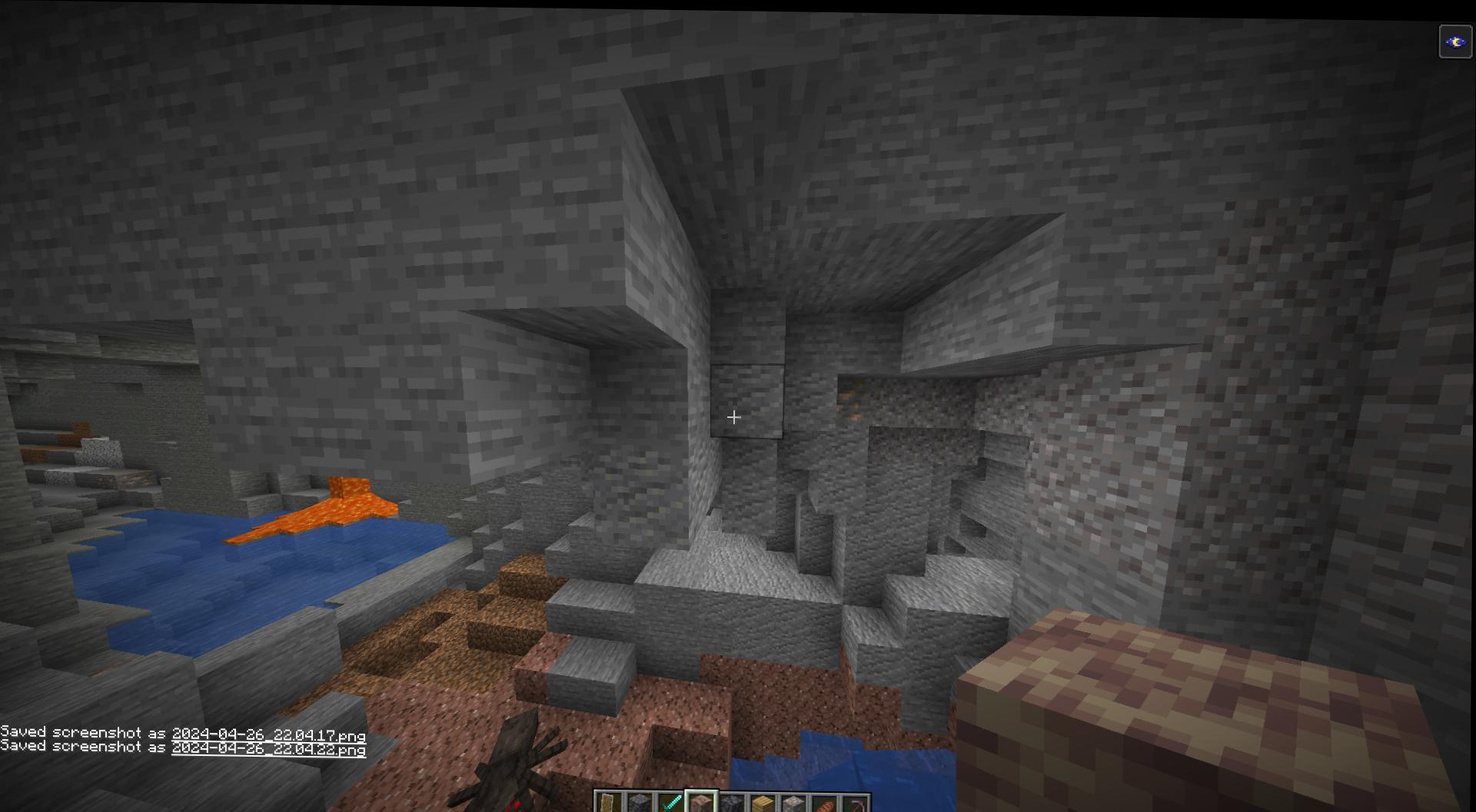iron ore: (830, 373, 872, 428), (93, 463, 153, 489)
